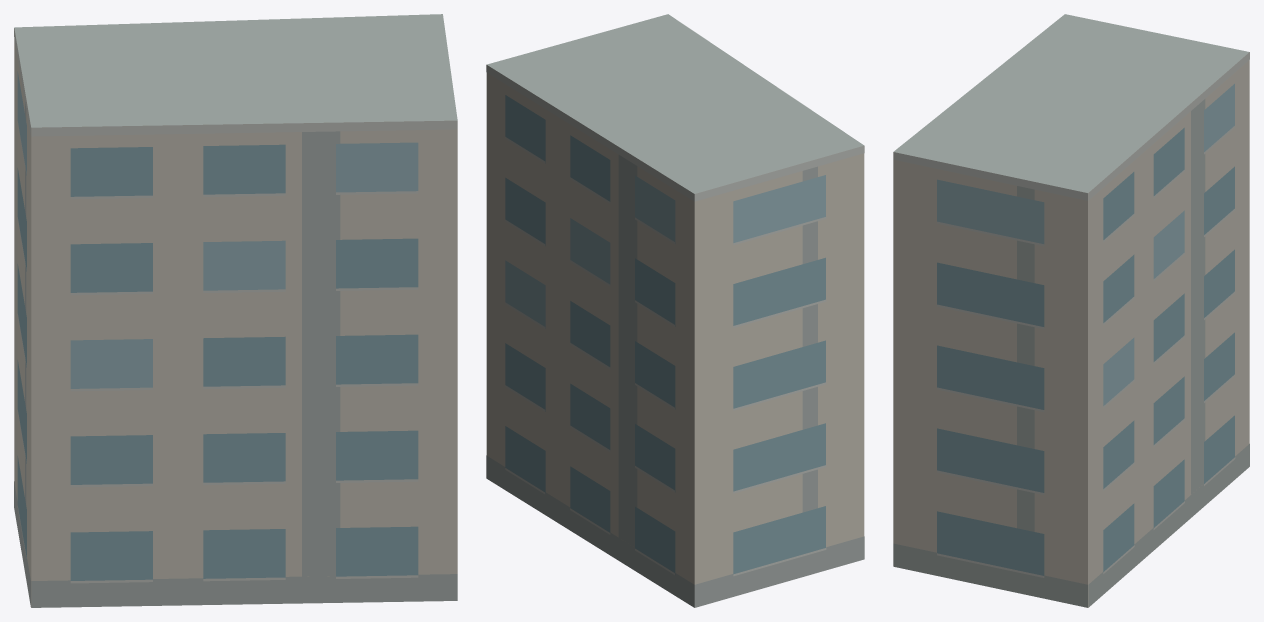
Rendered from survey-upis-32727154.glb.
3 views of the same model, side by side, from view 1: azimuth 30°, elevation 25°; view 2: azimuth 150°, elevation 25°; view 3: azimuth 270°, elevation 25° (orthographic). The views are drawn at different scales.
Visible parts, largest first — view 1: survey-upis-32727154.tmp; view 2: survey-upis-32727154.tmp; view 3: survey-upis-32727154.tmp.
Part boxes in pixels (left/top/right/bottom): survey-upis-32727154.tmp: left=14, top=14, right=457, bottom=607; survey-upis-32727154.tmp: left=486, top=14, right=864, bottom=607; survey-upis-32727154.tmp: left=893, top=14, right=1249, bottom=607.
Bounding box in the file's own units: 12.19 × 13.15 × 10.25.
